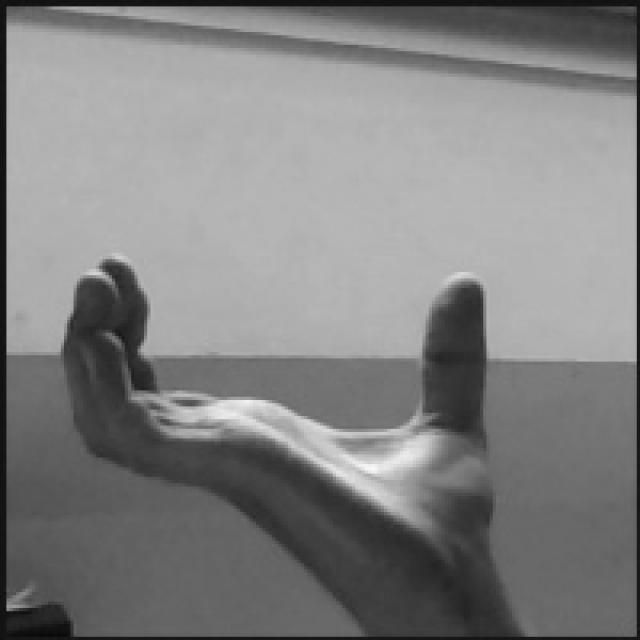space: (56, 252, 502, 602)
